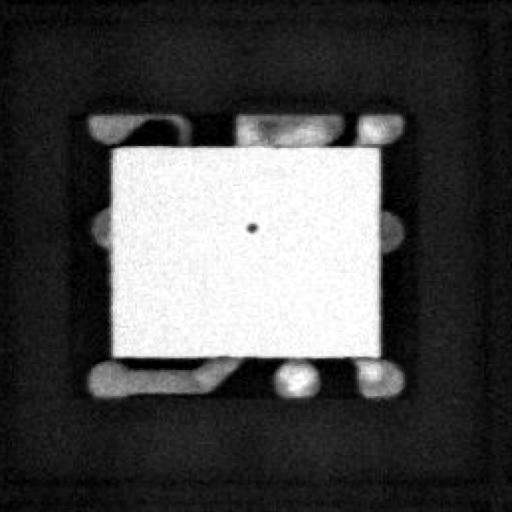DIE_INK: (228, 228, 250, 246)
